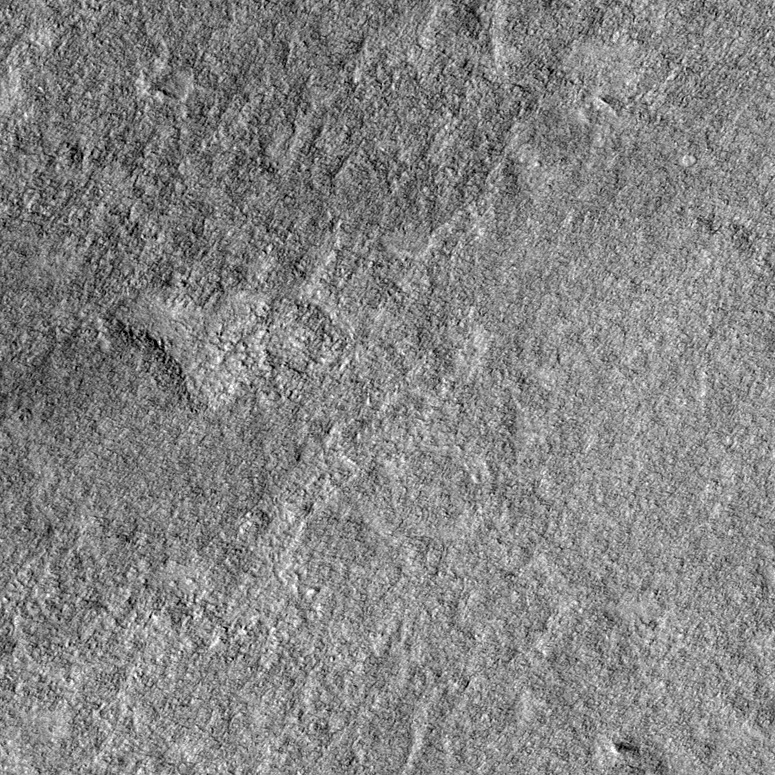dust_devil: (609, 740, 641, 758)
